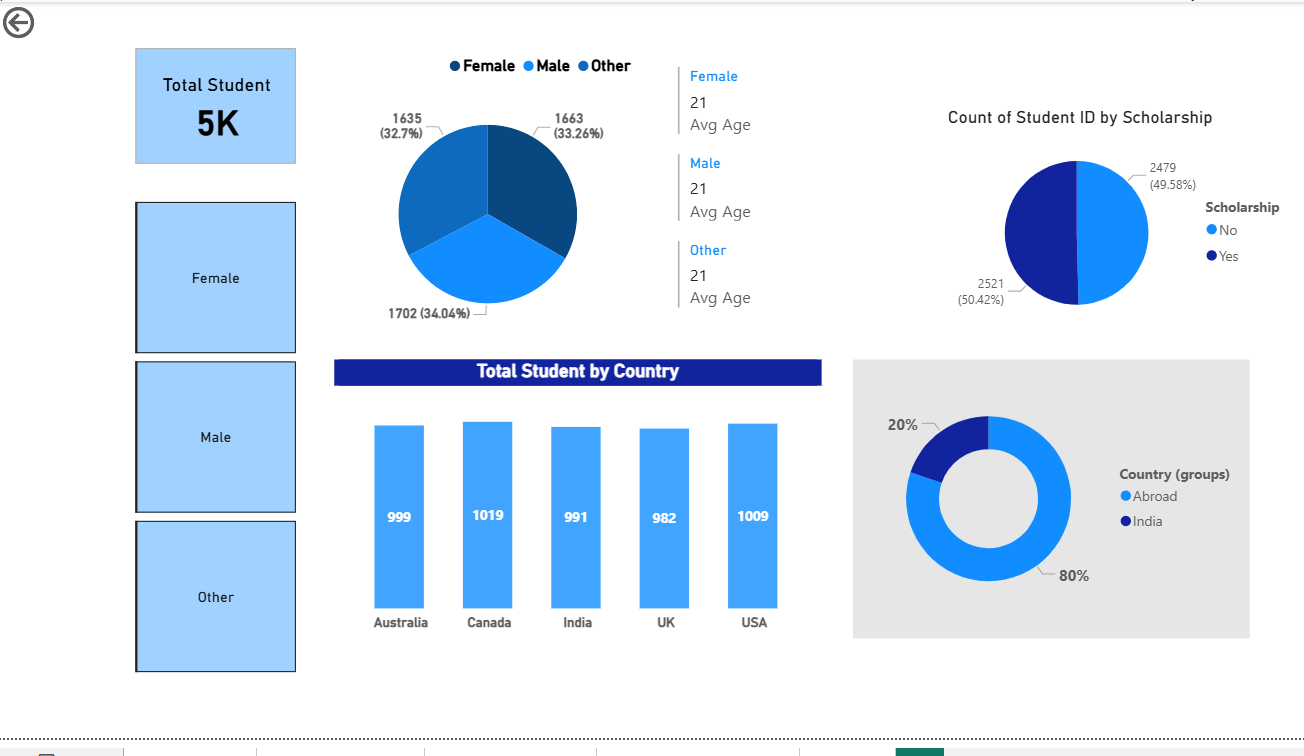

What the dashboard file says about the page in this screenshot:
{"tool":"powerbi","page":{"name":"Overall STUDENT","canvas":[1280,720],"ordinal":1},"visuals":[{"type":"actionButton","box":[0,0,100.3,40.4],"z":0},{"type":"advancedSlicerVisual","fields":{"Values":["college_data_powerbi.Gender"]},"box":[129.6,190.8,167.5,472],"z":1000},{"type":"cardVisual","fields":{"Data":["CountNonNull(college_data_powerbi.Student ID)"]},"box":[129.6,40.4,167.5,123.5],"z":2000},{"type":"pieChart","fields":{"Category":["college_data_powerbi.Gender"],"Y":["college_data_powerbi.Total student"]},"box":[328.9,40.4,300.8,300.8],"z":3000},{"type":"actionButton","box":[0,0,100,40],"z":4000},{"type":"clusteredColumnChart","fields":{"Category":["college_data_powerbi.Country"],"Y":["CountNonNull(college_data_powerbi.Student ID)"]},"box":[328.9,349.7,476.9,272.7],"z":5000},{"type":"donutChart","fields":{"Category":["college_data_powerbi.Country (groups)"],"Y":["CountNonNull(college_data_powerbi.Student ID)"]},"box":[836.4,349.7,387.6,272.7],"z":6000},{"type":"pieChart","fields":{"Series":["college_data_powerbi.Scholarship Status"],"Y":["CountNonNull(college_data_powerbi.Student ID)"]},"box":[924.5,102.7,355.8,227.4],"z":7000},{"type":"multiRowCard","fields":{"Values":["college_data_powerbi.Avg Age","college_data_powerbi.Gender"]},"box":[660.3,58.7,176.1,271.5],"z":8000}]}

Visuals, with their boxes on the page's 1280x720 design canvas (x1, y1, x2, y2). These are canvas units, not pixel positions in the 1304x756 screenshot, which may show the page scaled, cropped or inside an application window:
actionButton: bbox=[0, 0, 100, 40]
advancedSlicerVisual - college_data_powerbi.Gender: bbox=[130, 191, 297, 663]
cardVisual - CountNonNull(college_data_powerbi.Student ID): bbox=[130, 40, 297, 164]
pieChart - college_data_powerbi.Gender x college_data_powerbi.Total student: bbox=[329, 40, 630, 341]
actionButton: bbox=[0, 0, 100, 40]
clusteredColumnChart - college_data_powerbi.Country x CountNonNull(college_data_powerbi.Student ID): bbox=[329, 350, 806, 622]
donutChart - college_data_powerbi.Country (groups) x CountNonNull(college_data_powerbi.Student ID): bbox=[836, 350, 1224, 622]
pieChart - college_data_powerbi.Scholarship Status x CountNonNull(college_data_powerbi.Student ID): bbox=[924, 103, 1280, 330]
multiRowCard - college_data_powerbi.Avg Age x college_data_powerbi.Gender: bbox=[660, 59, 836, 330]
